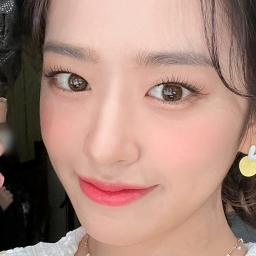face: (40, 0, 234, 244)
